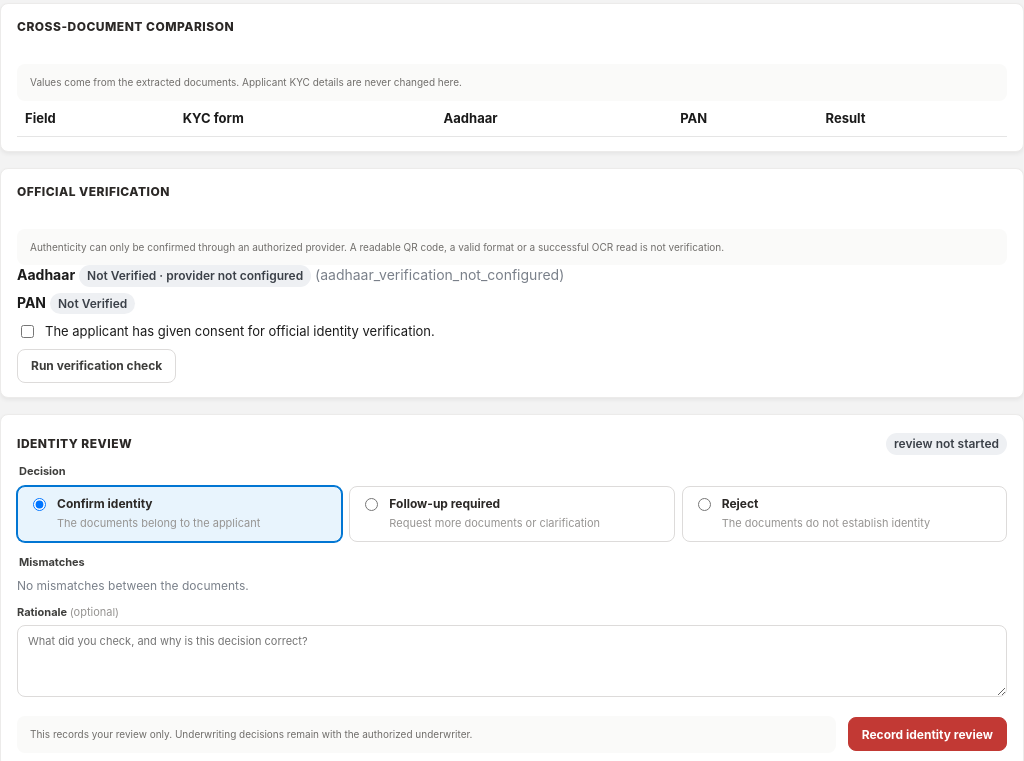
it: identity verification view › requires a rationale for follow-up or reject decisions
(page scrolled)
expect the text "No mismatches between the documents." is shown: met, box [17,578,249,593]
expect the button "Record identity review" is enabled: met, box [848,717,1007,751]
Click the radio button labelled "Follow-up required Request more documents or clarification": (372, 504) [365,498,378,511]
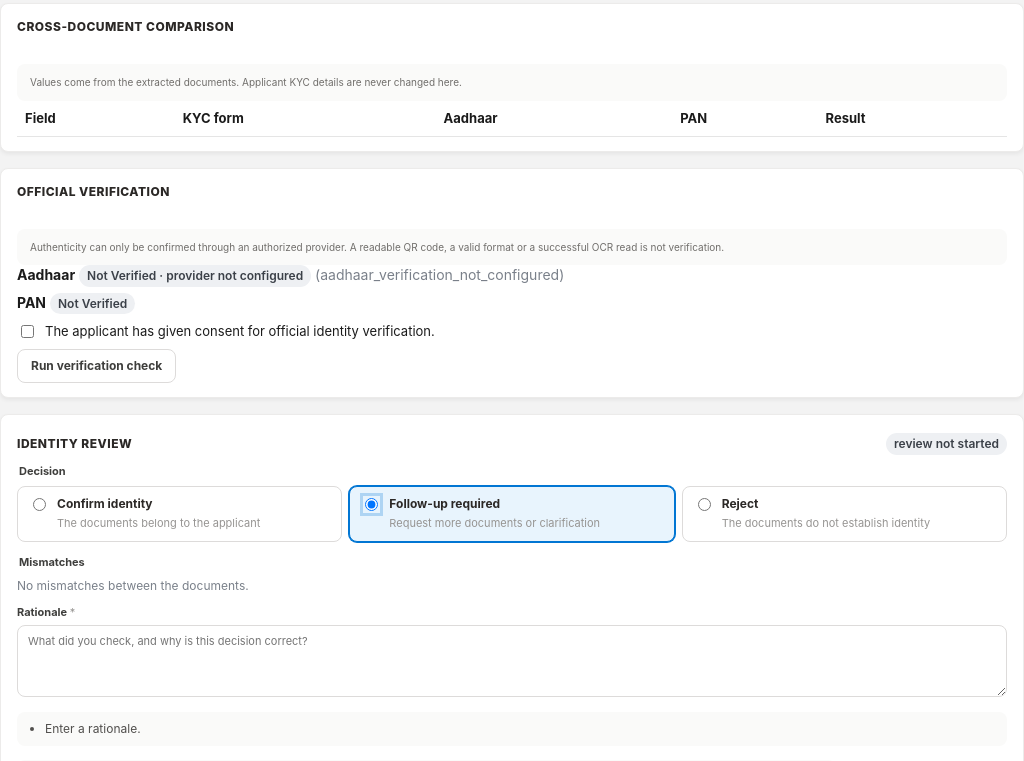
expect the list item "Enter a rationale." is shown: met, box [45,721,141,736]
